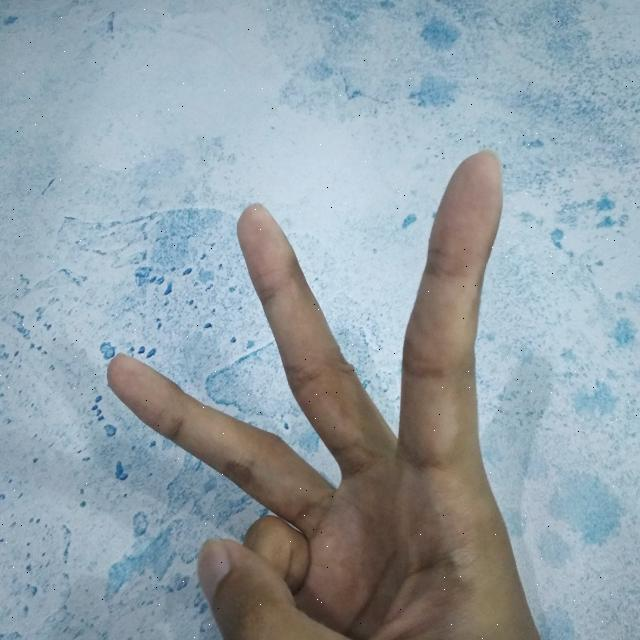W: (93, 137, 547, 640)
